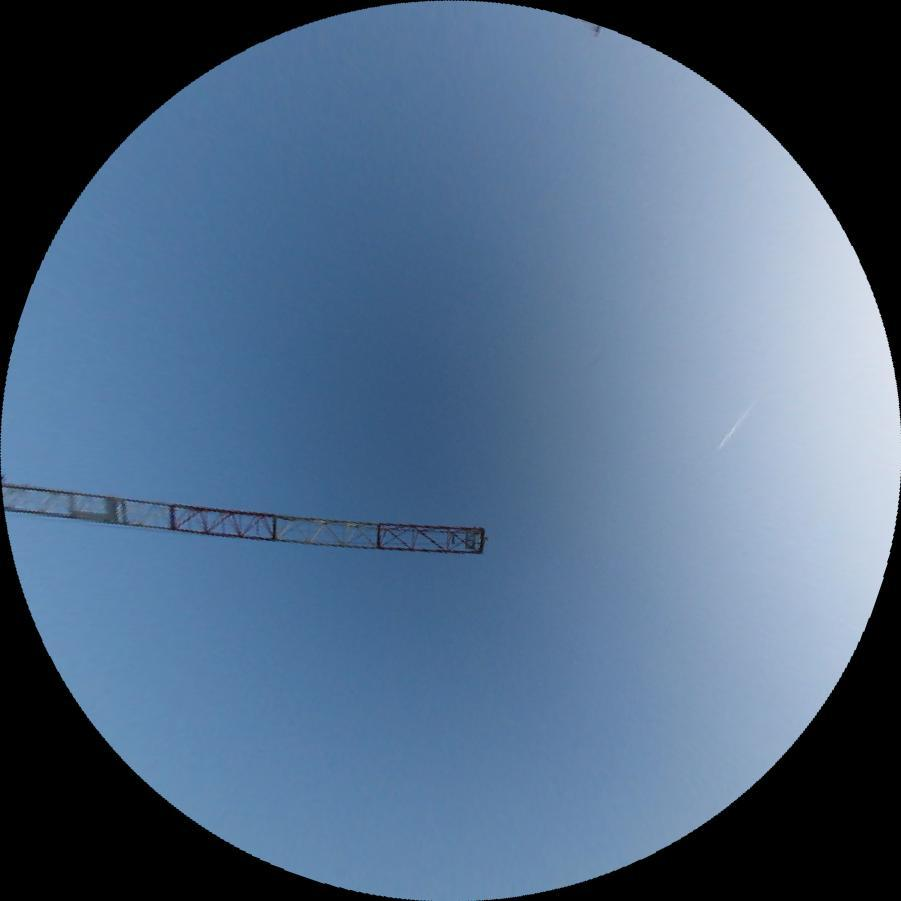contrail young: (714, 396, 758, 451)
